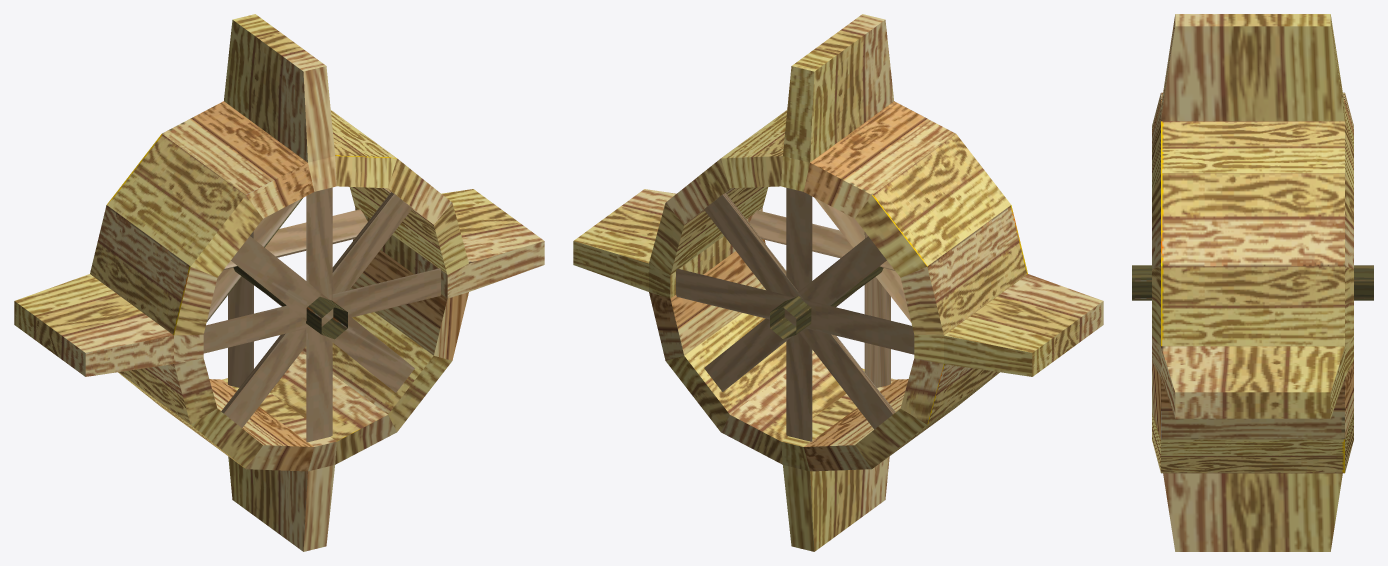
File: biawatermill01.dae
The picture shows the model from 3 angles, left to right: view 1: azimuth 30°, elevation 25°; view 2: azimuth 150°, elevation 25°; view 3: azimuth 270°, elevation 25°; orthographic projection. The views are drawn at different scales.
Visible parts, largest first — view 1: m0; view 2: m0; view 3: m0.
Boxes of the visible parts, x1,y1,x2,y2 form: m0: [14, 14, 544, 551]; m0: [573, 14, 1103, 551]; m0: [1132, 14, 1373, 551].
Bounding box in the file's own units: 1674 × 1674 × 698.
Materials: 1 (1 with a texture image).
